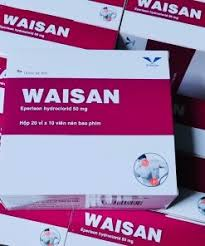Waisan: (21, 87, 121, 107)
